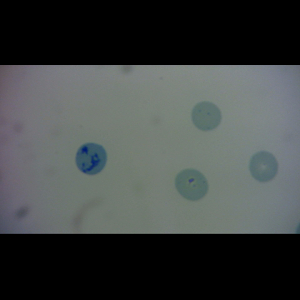aggregate reticulocyte: (74, 142, 108, 176)
erythrocyte: (174, 168, 210, 202), (249, 149, 280, 184)
punctate reticulocyte: (190, 100, 223, 132)
